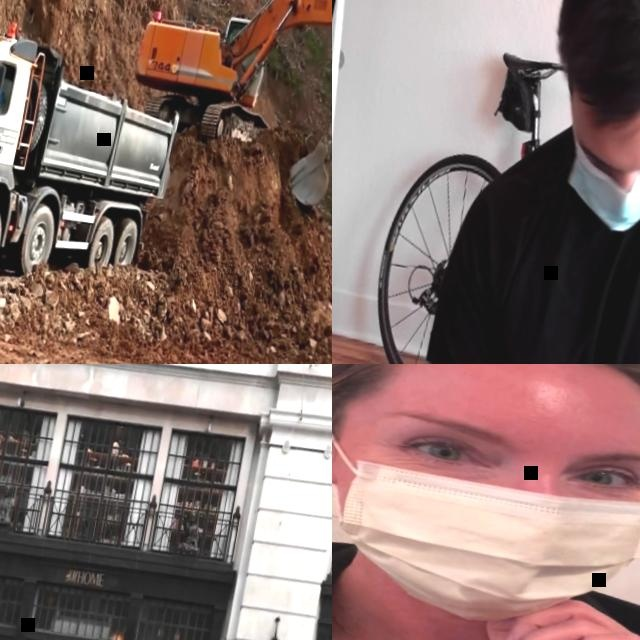Mask: (332, 400, 640, 640), (556, 124, 640, 241)
NO-Hardhat: (332, 364, 640, 419), (537, 0, 640, 129)
NO-Safety Vest: (461, 105, 640, 364), (332, 550, 640, 640)
Person: (332, 364, 640, 640), (416, 0, 640, 364), (0, 75, 7, 112)
machinery: (0, 20, 188, 308), (115, 0, 332, 224)
